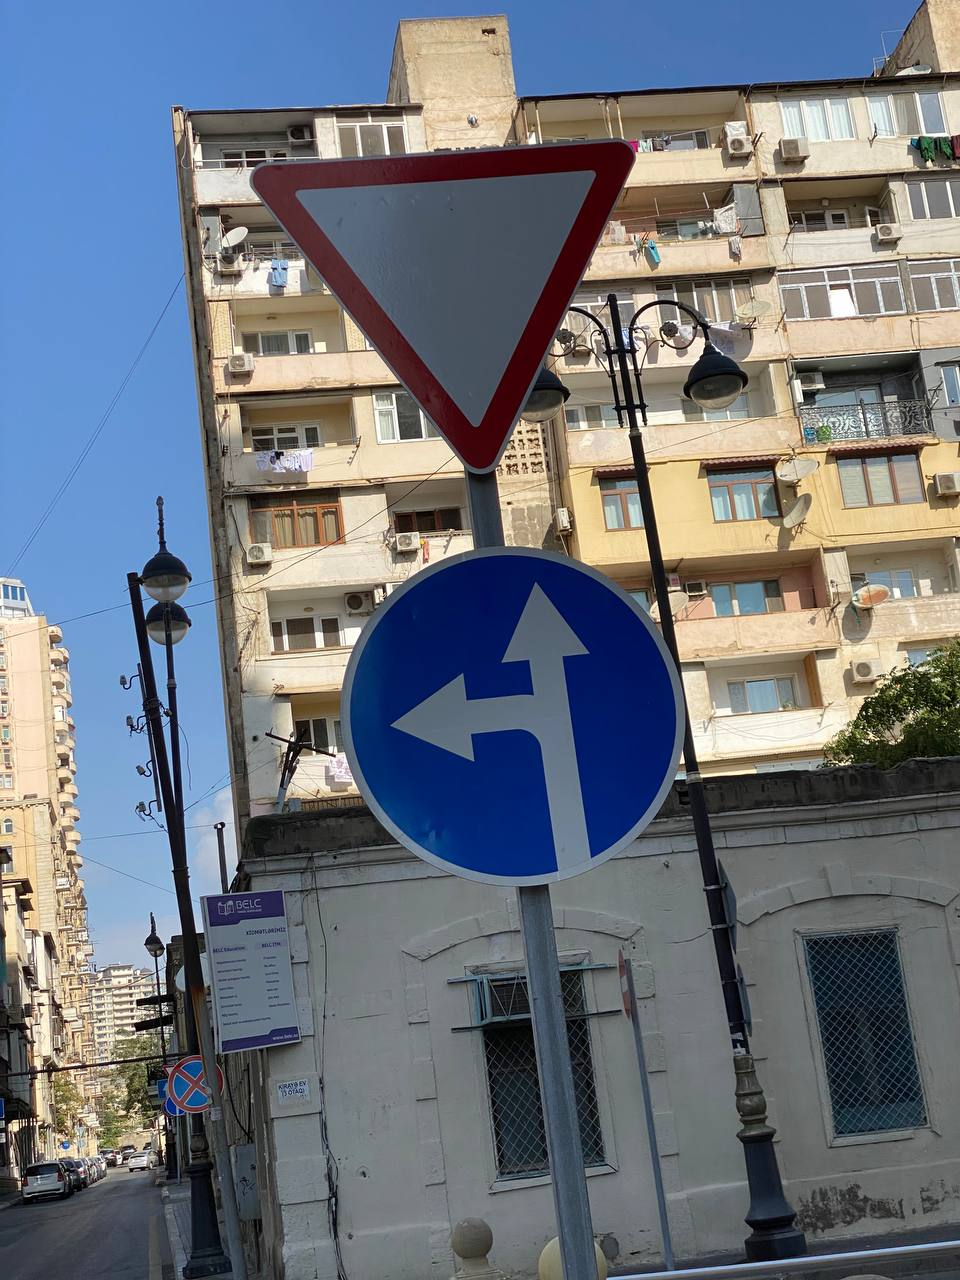Give Way: (249, 139, 636, 476)
Straight or Left: (340, 545, 687, 888)
